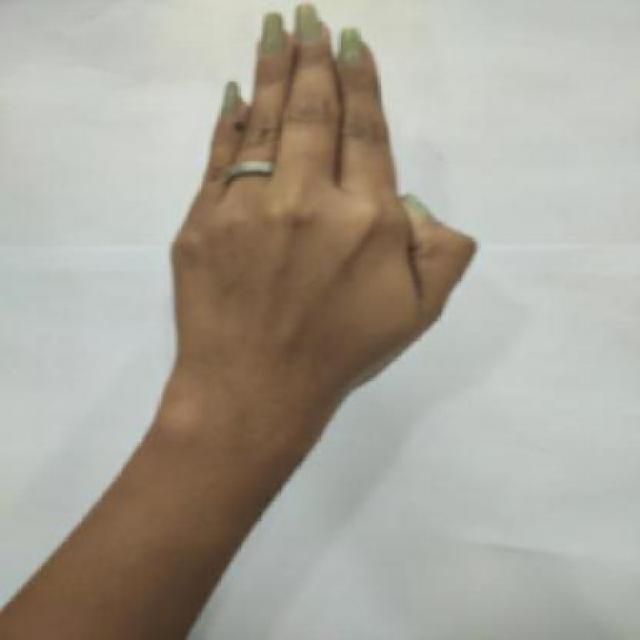without_gloves: (147, 1, 496, 494)
